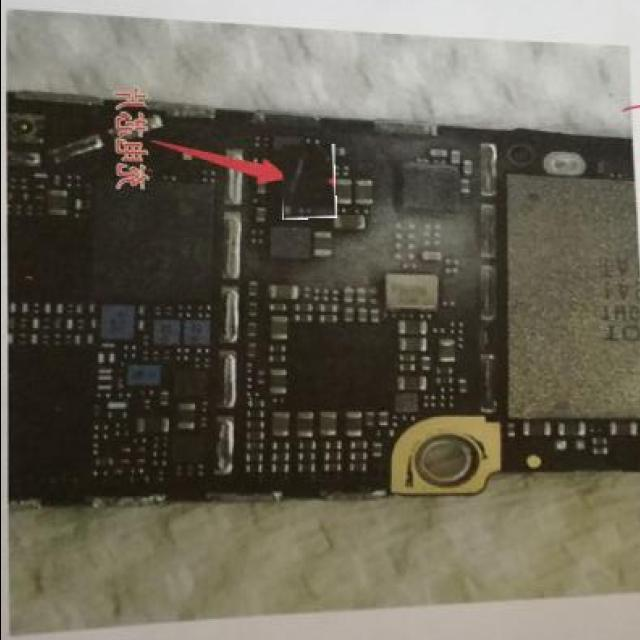Burn: (280, 142, 336, 218)
